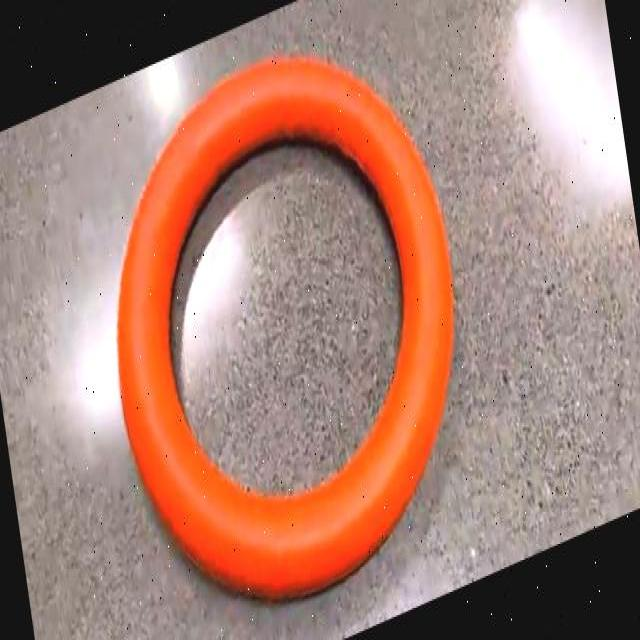note: (117, 58, 453, 599)
